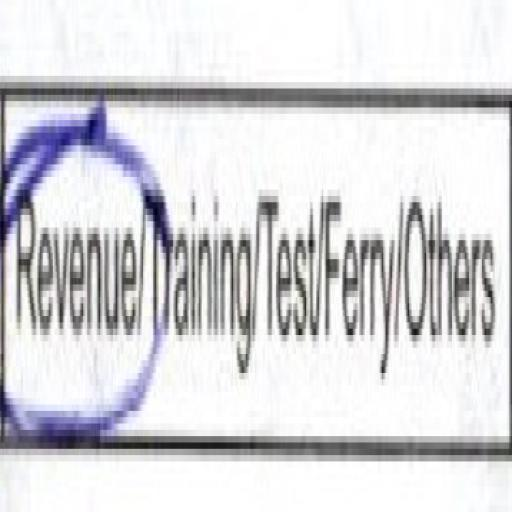check: (0, 66, 141, 475)
